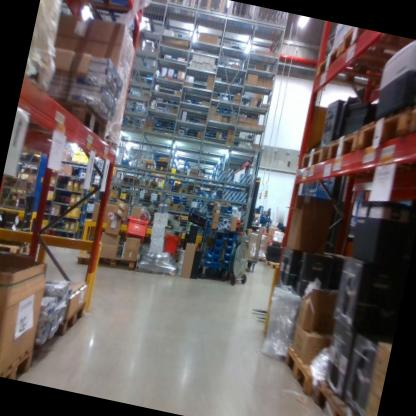pallet: (314, 40, 416, 103), (13, 89, 111, 146), (335, 25, 416, 78), (354, 96, 415, 163), (277, 339, 325, 407), (307, 367, 372, 416), (72, 244, 138, 278), (324, 122, 362, 167), (54, 291, 88, 341), (91, 121, 127, 167), (1, 341, 41, 381), (63, 0, 148, 17), (31, 322, 61, 370), (296, 136, 328, 179), (0, 234, 32, 258), (404, 85, 416, 135), (260, 255, 276, 273), (251, 251, 265, 263)
small_load_carrier: (121, 213, 155, 247), (159, 229, 183, 256)
